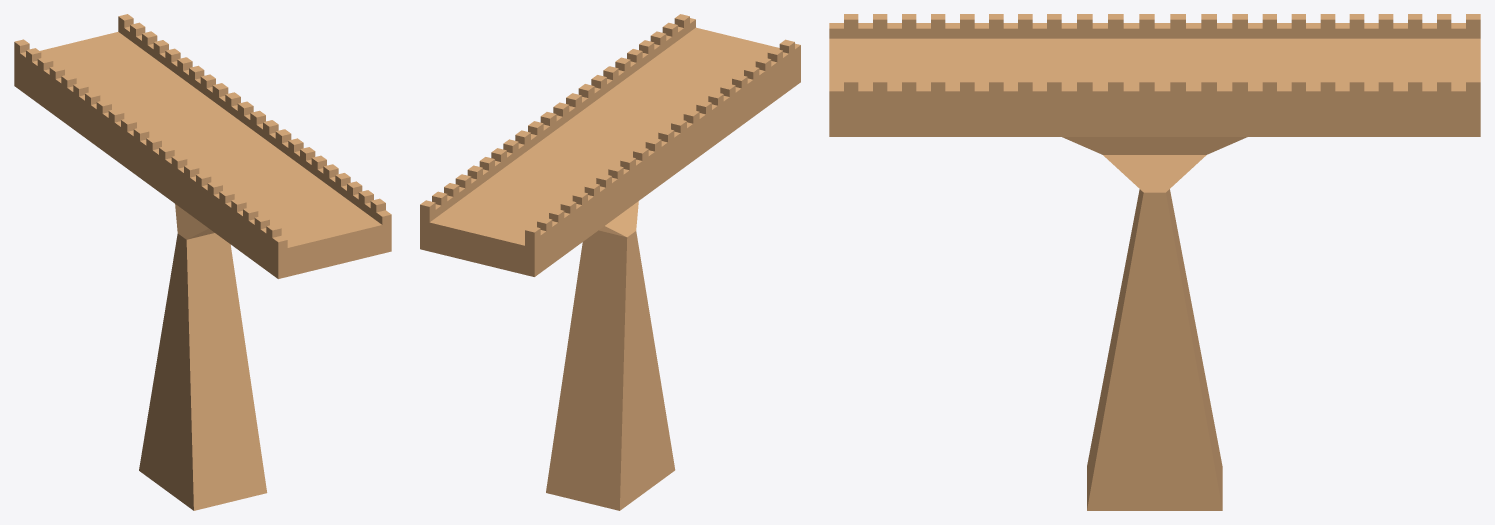
3 renders of one model, left to right at view 1: azimuth 30°, elevation 25°; view 2: azimuth 150°, elevation 25°; view 3: azimuth 270°, elevation 25°, orthographic. The views are drawn at different scales.
Parts seen in each view (by area): view 1: Cube; view 2: Cube; view 3: Cube.
Part boxes in pixels (x1,y1,x2,y2): Cube: [14, 14, 391, 510]; Cube: [420, 14, 800, 510]; Cube: [829, 14, 1480, 510].
Size of the model in its own units: 1463 by 4401 by 5892.
